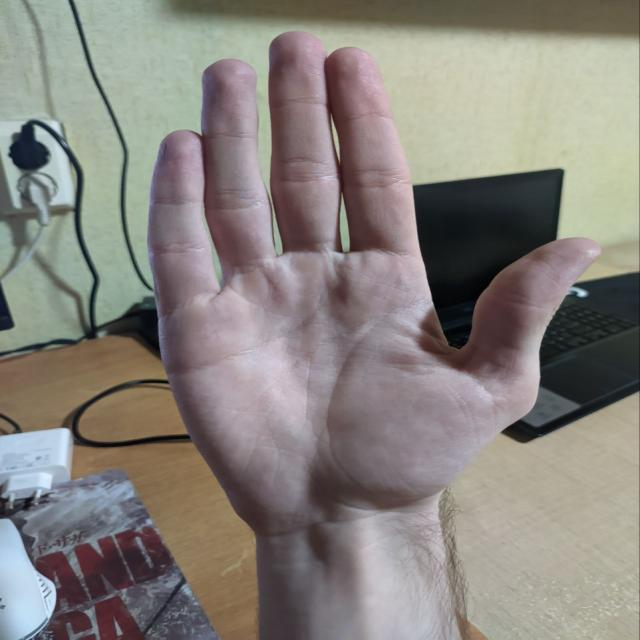v: (153, 25, 619, 463)
